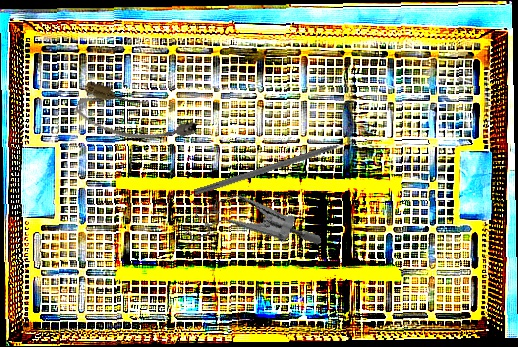Cannula: (72, 79, 200, 158)
Hook Surgical: (193, 136, 360, 198)
Speculum: (176, 171, 323, 285)
